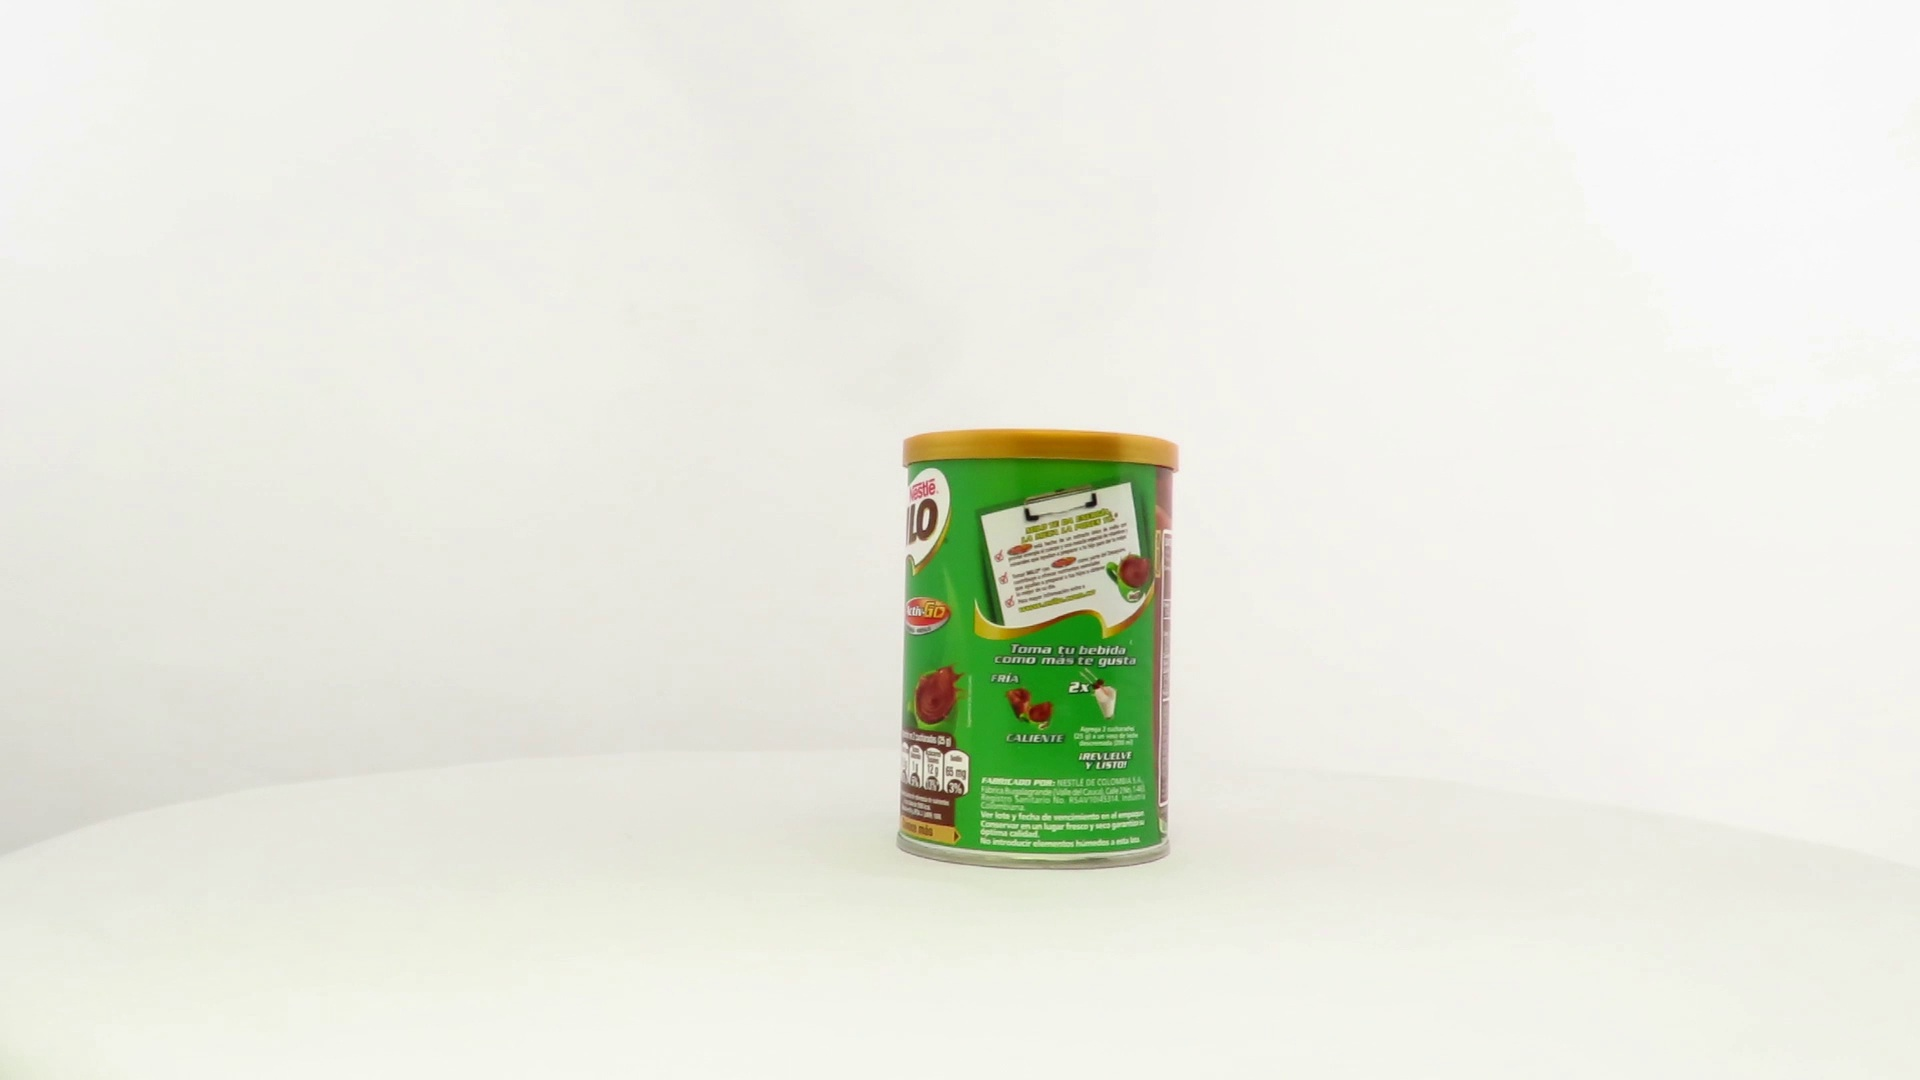COL0170203LAT20000: (891, 423, 1185, 877)
